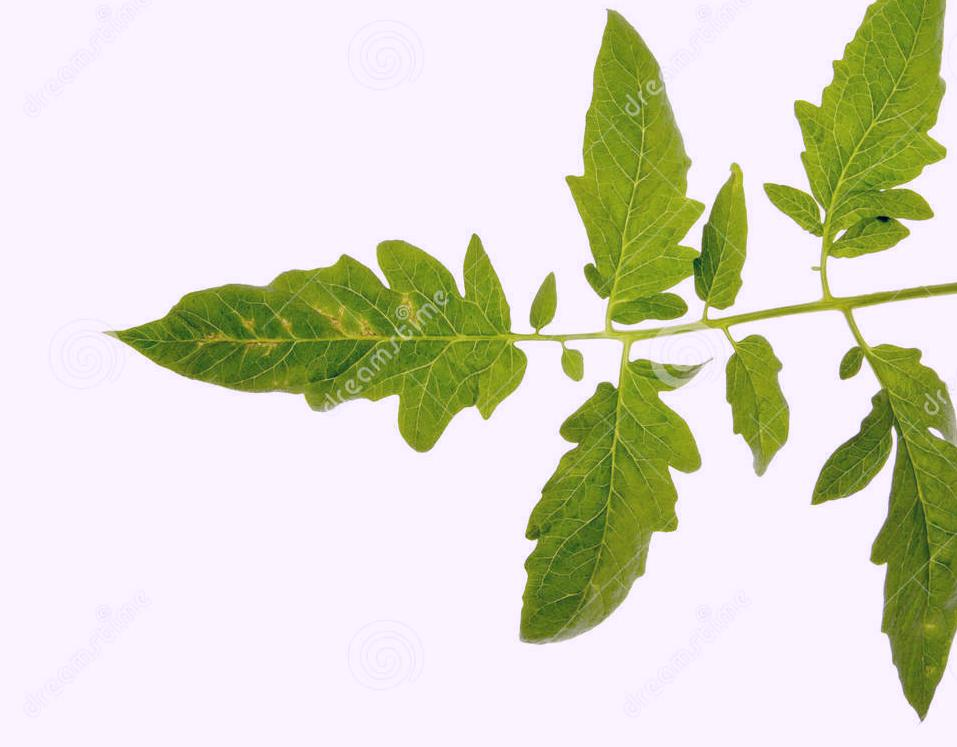Tomato leaf: (111, 213, 533, 493), (475, 334, 732, 702), (802, 317, 957, 743), (744, 0, 957, 283), (568, 0, 719, 345)
